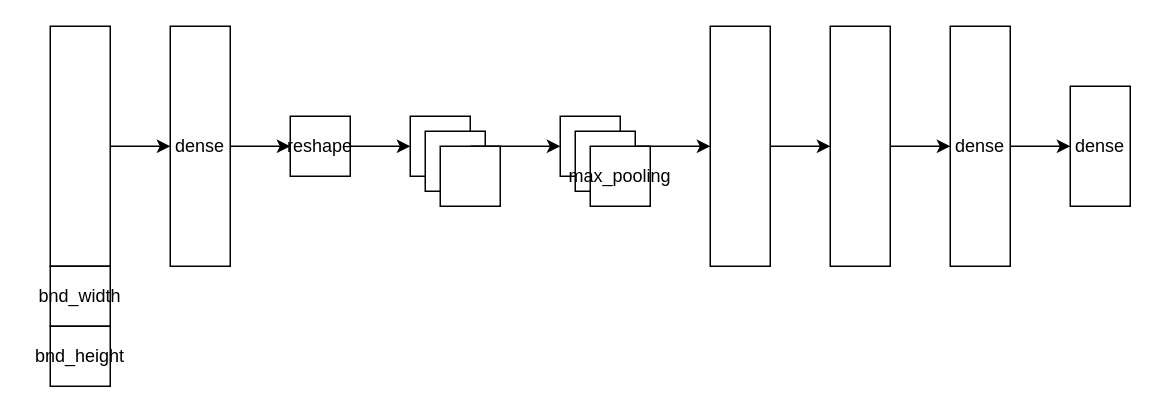
This 1157x413 diagram has some shape labels left out. Here are the shapes that lost their labels. From the top down, the centre of each, then its label:
At point (79, 145): "flatten_image".
At point (739, 145): "flatten".
At point (859, 145): "dropout".
At point (469, 175): "conv".
